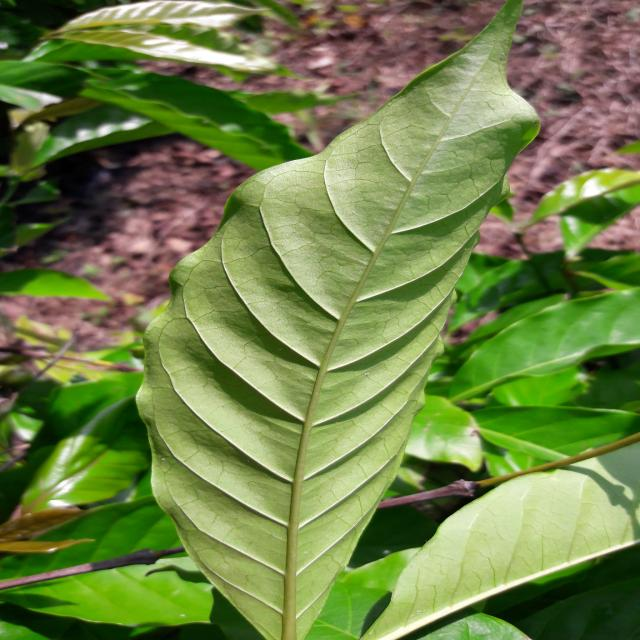Sanas: (137, 0, 543, 640)
